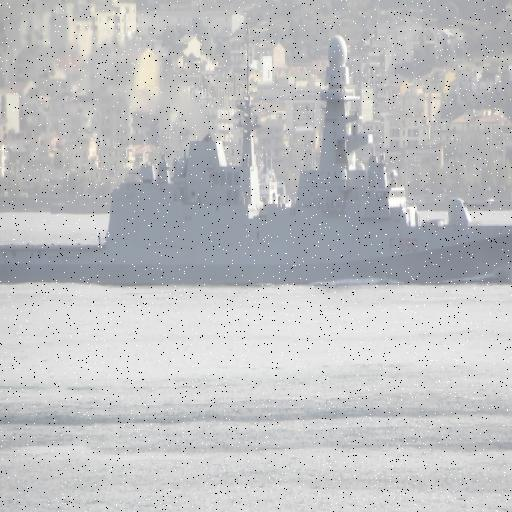Fragata: (1, 42, 512, 293)
